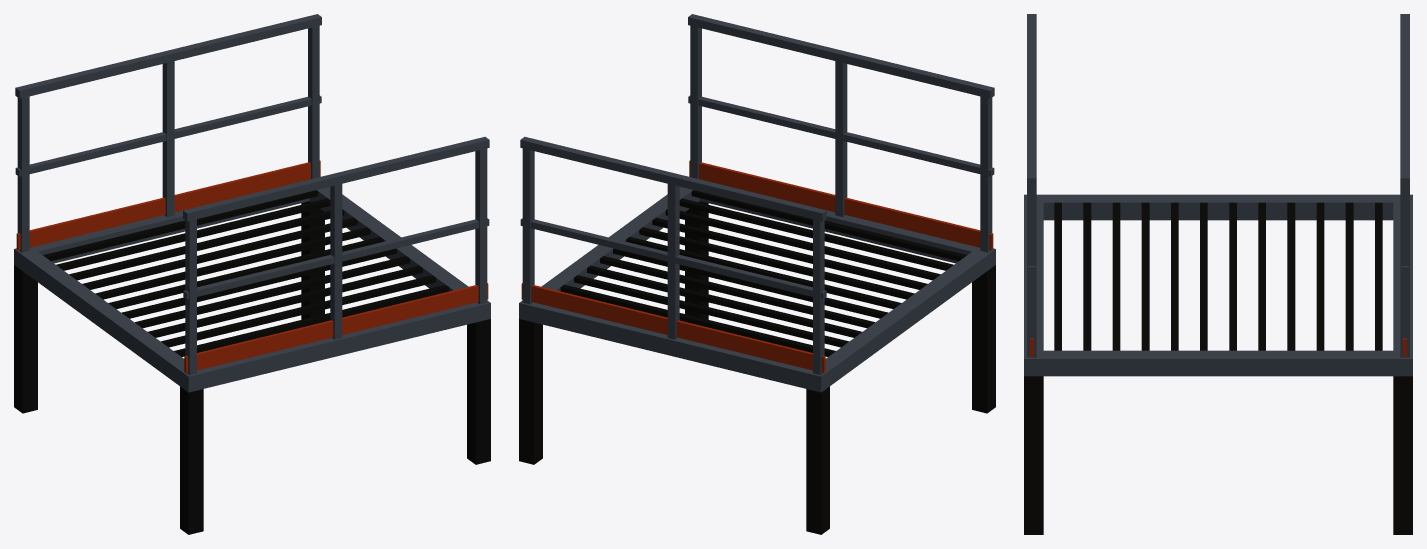
The model's file is SM_Catwalk_2x2_Hideout.glb.
The picture shows the model from 3 angles, left to right: view 1: azimuth 30°, elevation 25°; view 2: azimuth 150°, elevation 25°; view 3: azimuth 270°, elevation 25°; orthographic projection. The views are drawn at different scales.
Visible parts, largest first — view 1: SM_Catwalk_2x2_Hideout-col; view 2: SM_Catwalk_2x2_Hideout-col; view 3: SM_Catwalk_2x2_Hideout-col.
Boxes of the visible parts, x1,y1,x2,y2 form: SM_Catwalk_2x2_Hideout-col: [14, 14, 490, 534]; SM_Catwalk_2x2_Hideout-col: [519, 14, 995, 534]; SM_Catwalk_2x2_Hideout-col: [1024, 14, 1412, 534].
Size of the model in its own units: 2 by 2.03 by 2.
